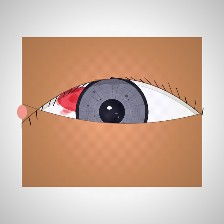hemorrhage_spot: (46, 65, 133, 135)
